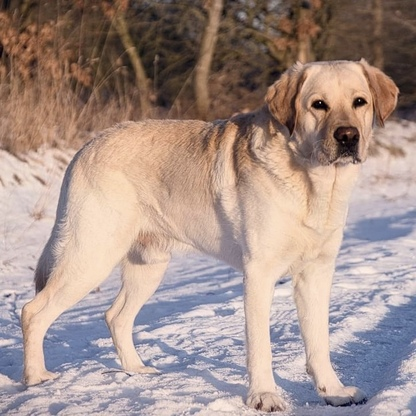labrado: (17, 53, 403, 416)
